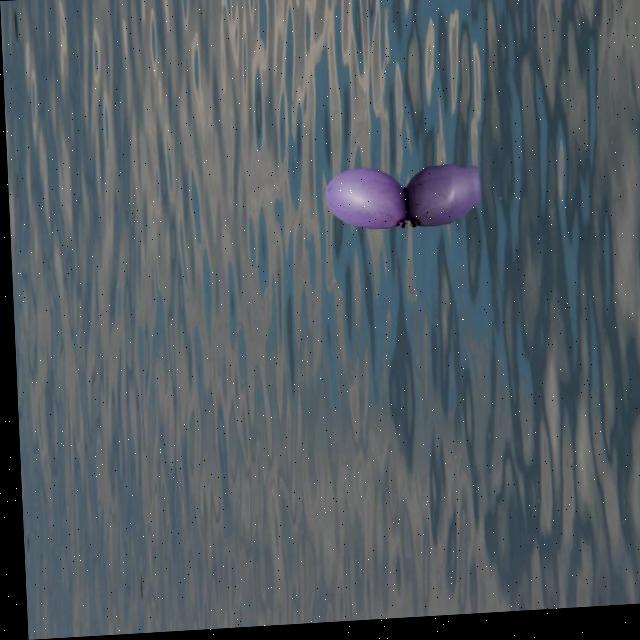balloon: (316, 166, 407, 236)
